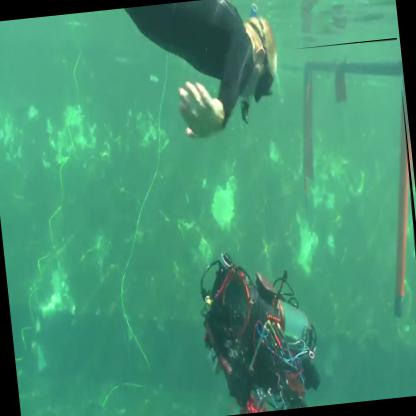gate: (291, 38, 416, 337)
